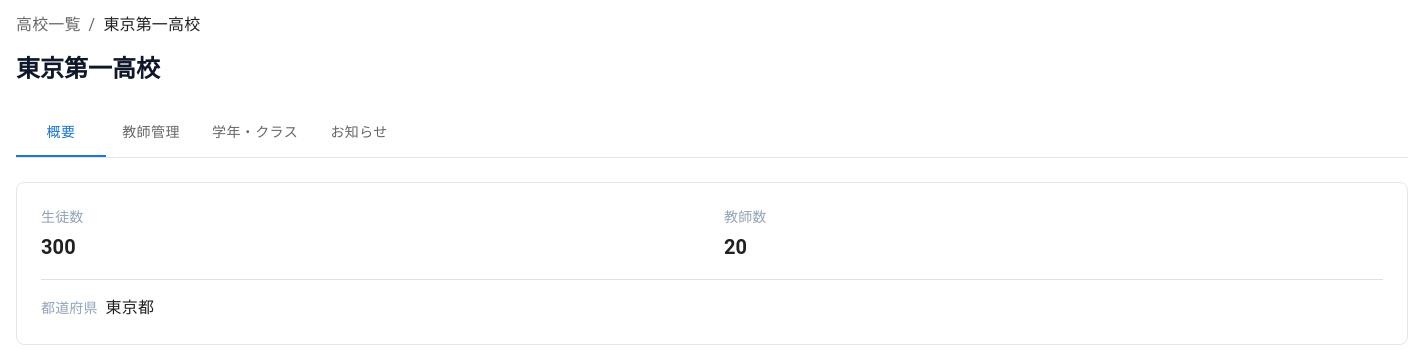
Test: SchoolDetailPresenter › 学年・クラスタブ › タブ切り替え後に空状態メッセージが表示される
What coordinates should you click on to do the following:
click the tab "学年・クラス"
I would click on:
 (255, 133)
Its box is [196,109,314,157].
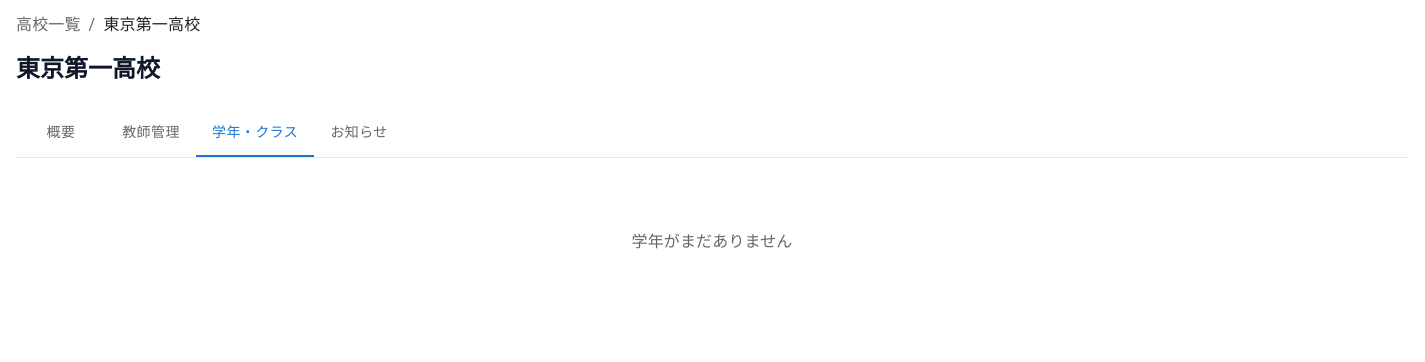
Expected: the text "学年がまだありません" is shown, [632,232,792,251]
